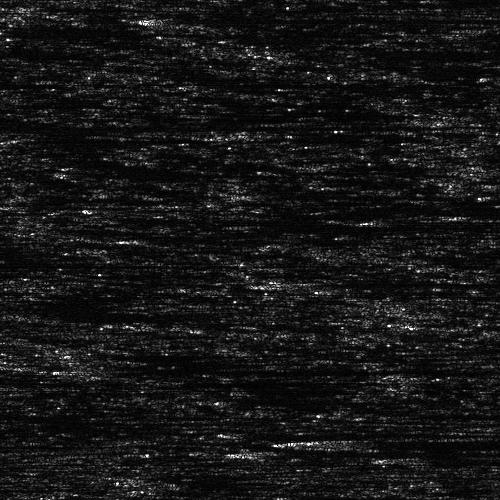rock: (0, 353, 235, 386), (108, 11, 213, 26), (276, 436, 391, 447), (232, 444, 305, 461), (194, 188, 277, 199), (325, 216, 418, 225), (0, 134, 60, 145), (362, 453, 435, 462), (0, 192, 51, 199), (14, 1, 35, 12)
shadow: (79, 353, 445, 386), (161, 11, 500, 26), (269, 444, 500, 461), (0, 123, 348, 132), (236, 188, 500, 199), (334, 436, 500, 447), (14, 134, 180, 145), (20, 192, 193, 199), (399, 453, 500, 462), (25, 1, 106, 12), (372, 216, 467, 225), (0, 262, 72, 267)
